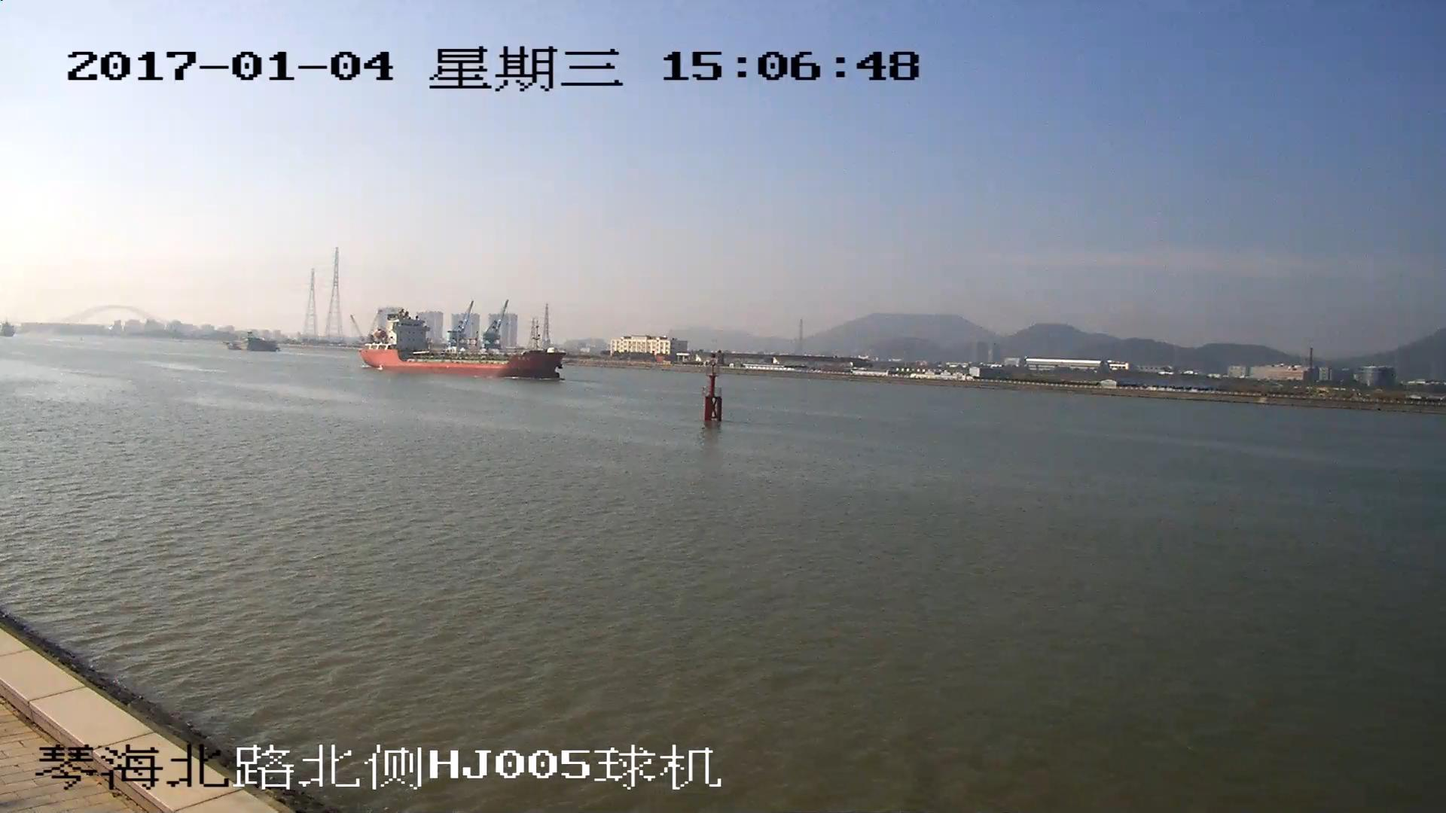general cargo ship: (358, 332, 562, 375)
